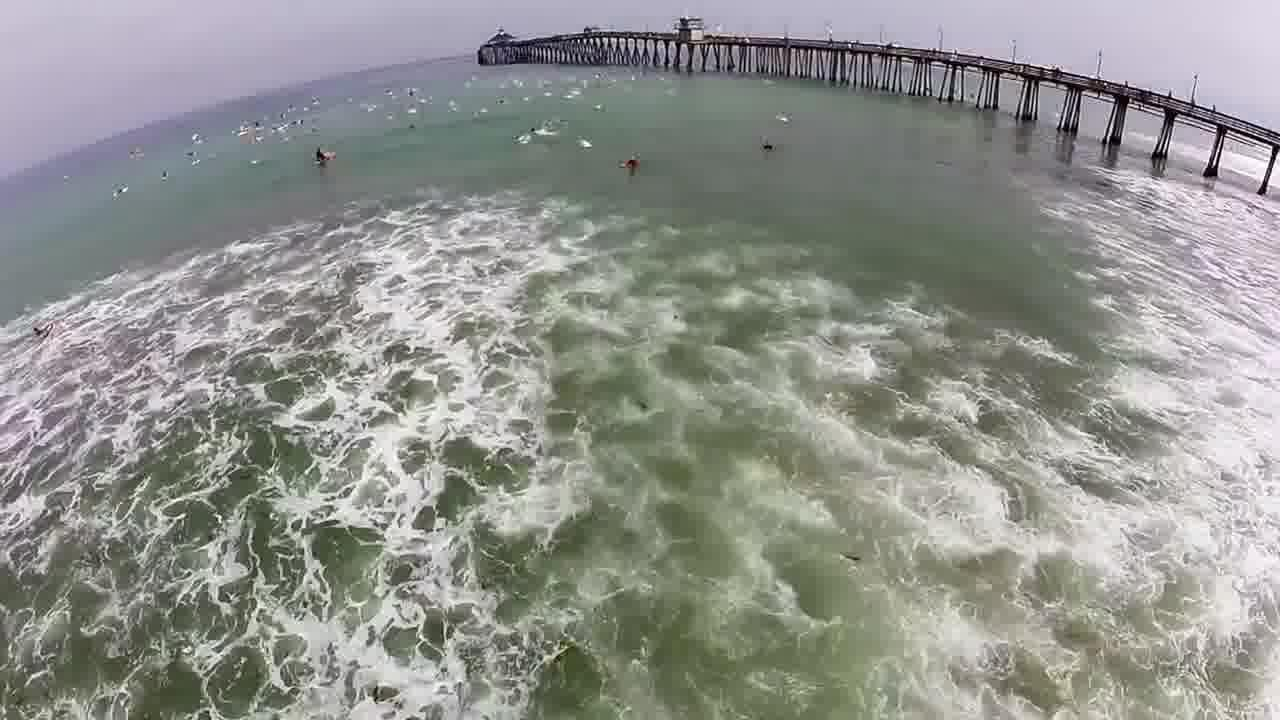human: (301, 142, 348, 182), (752, 126, 787, 164), (619, 143, 645, 176)
